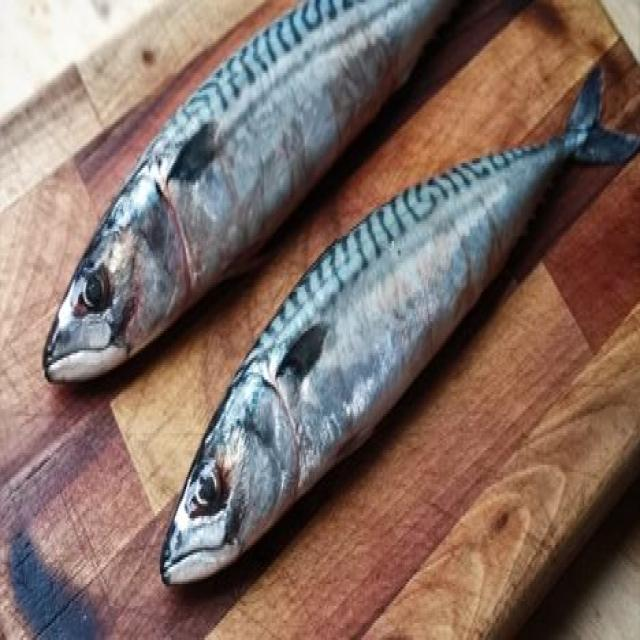Mackerel: (161, 71, 640, 583)
